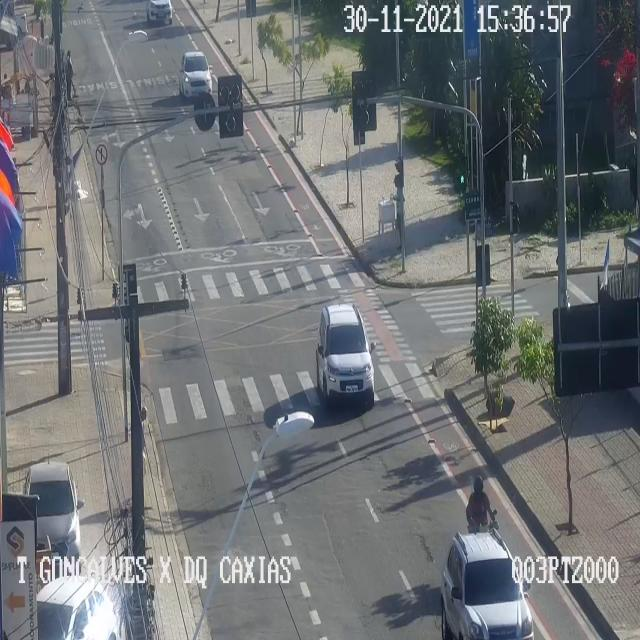Car: (442, 531, 532, 639), (316, 302, 378, 406), (23, 463, 84, 559), (38, 573, 124, 639), (180, 51, 214, 102), (148, 0, 175, 28)
Motorcycle: (466, 476, 500, 542)
